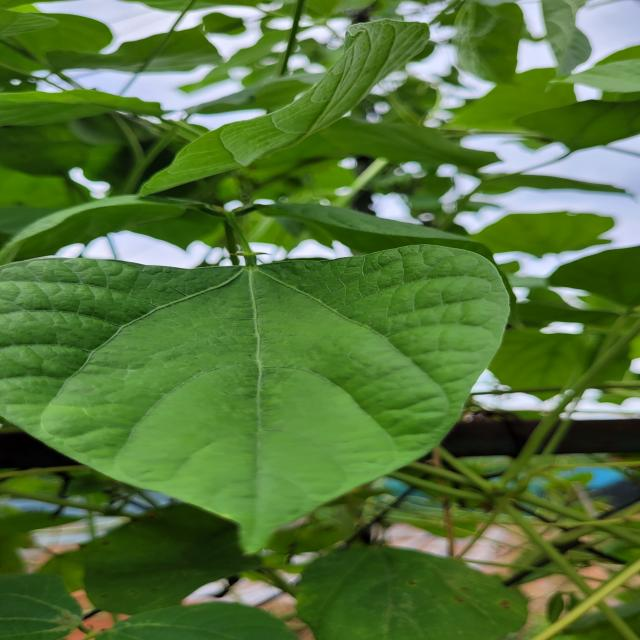Dolicos bean_healthy: (0, 240, 512, 557), (294, 545, 526, 640)
